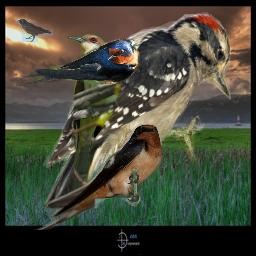Crow: (16, 18, 53, 42)
Cuckoo: (67, 33, 126, 207)
Swallow: (32, 124, 162, 230), (22, 38, 140, 85)
Woodpecker: (27, 11, 231, 215)
